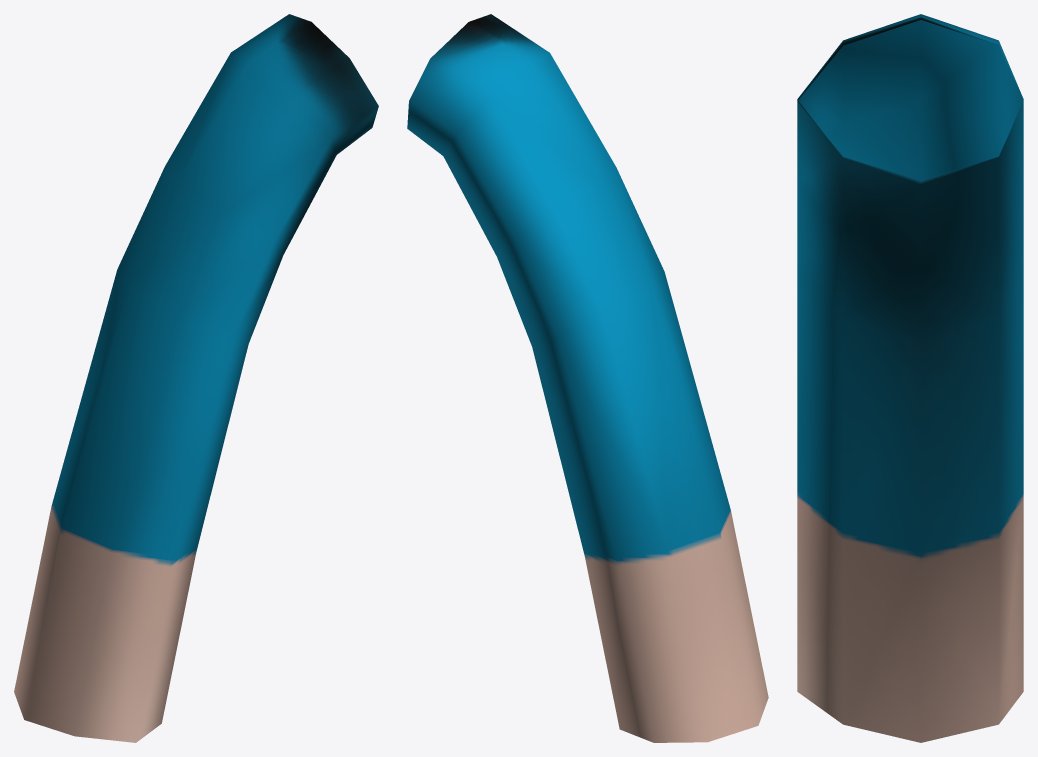
File: brazosupder.obj
3 renders of one model, left to right at view 1: azimuth 30°, elevation 25°; view 2: azimuth 150°, elevation 25°; view 3: azimuth 270°, elevation 25°, orthographic. The views are drawn at different scales.
Visible parts, largest first — view 1: brazosupder_Material.001; view 2: brazosupder_Material.001; view 3: brazosupder_Material.001.
Boxes of the visible parts, left/top/right/bottom form: brazosupder_Material.001: left=14, top=14, right=378, bottom=742; brazosupder_Material.001: left=407, top=14, right=768, bottom=742; brazosupder_Material.001: left=797, top=14, right=1023, bottom=742.
Size of the model in its own units: 6.84 by 13.06 by 3.25.
